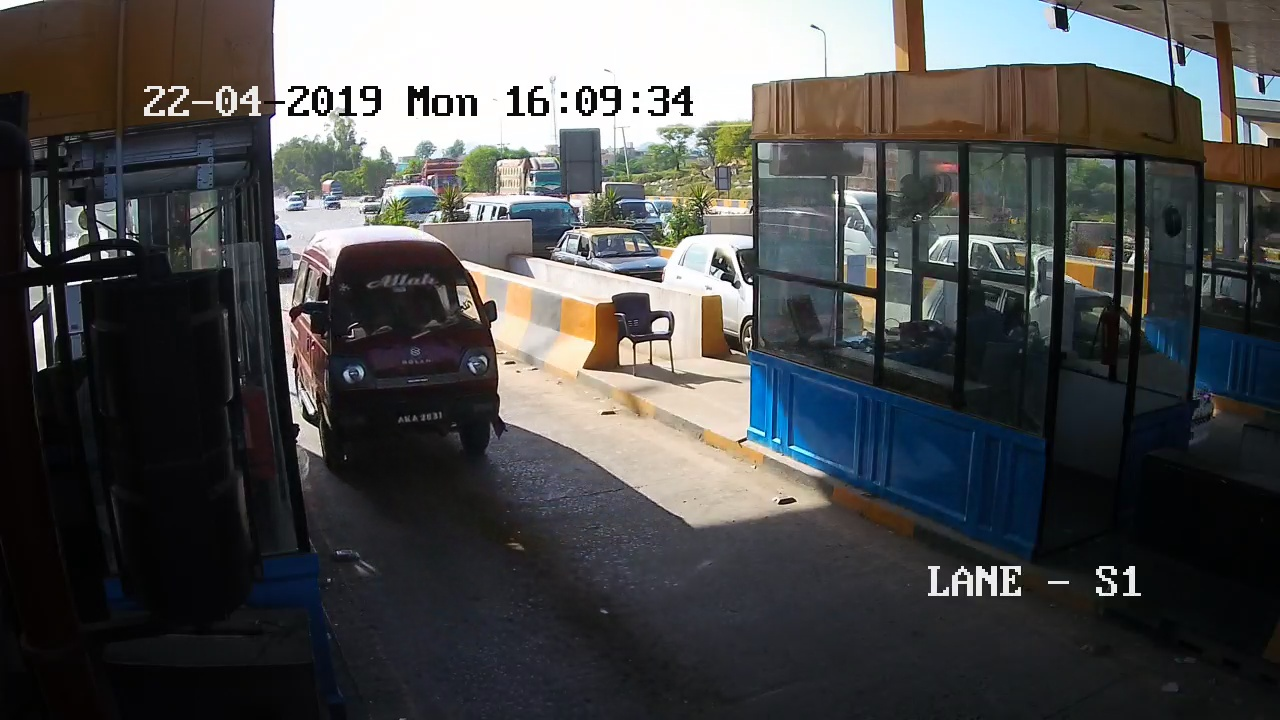Number Plate (Car): (394, 410, 445, 426)
